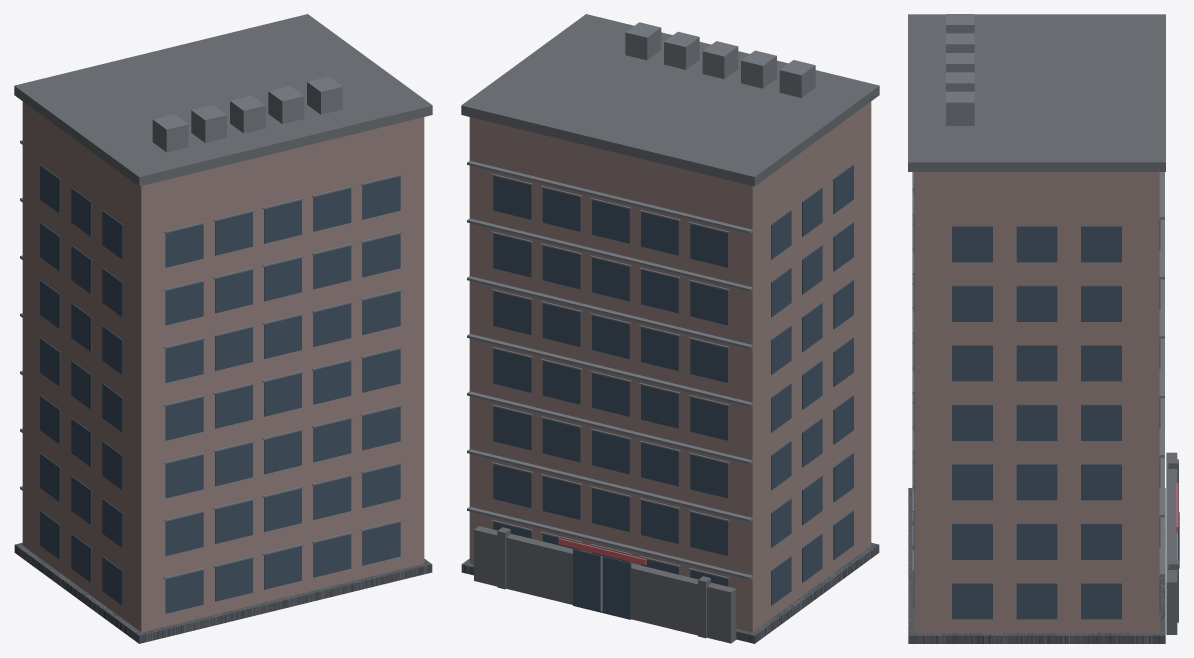
The model's file is shadow_bank.glb.
3 renders of one model, left to right at view 1: azimuth 30°, elevation 25°; view 2: azimuth 150°, elevation 25°; view 3: azimuth 270°, elevation 25°, orthographic. The views are drawn at different scales.
Parts seen in each view (by area): view 1: facade_2, roof_truss_192, foundation_1, inset_window_21, inset_window_102, inset_window_13, inset_window_19, inset_window_46, inset_window_48, inset_window_94, inset_window_127, inset_window_129 (+52 smaller); view 2: facade_2, roof_truss_192, ground_portico_194, glass_entry_195, foundation_1, horizontal_structural_band_191, horizontal_structural_band_110, horizontal_structural_band_29, horizontal_structural_band_56, horizontal_structural_band_83, horizontal_structural_band_137, horizontal_structural_band_164 (+58 smaller); view 3: facade_2, roof_truss_192, foundation_1, ground_portico_194, window_side_wall_26, window_side_wall_53, window_side_wall_80, window_side_wall_107, window_side_wall_134, window_side_wall_161, window_side_wall_188, window_side_wall_24 (+18 smaller).
Boxes of the visible parts, x1,y1,x2,y2 form: facade_2: [22, 101, 424, 632]; roof_truss_192: [14, 14, 432, 186]; foundation_1: [14, 542, 432, 643]; inset_window_21: [362, 522, 400, 565]; inset_window_102: [362, 349, 400, 392]; inset_window_13: [165, 570, 203, 613]; inset_window_19: [313, 534, 351, 577]; inset_window_46: [313, 476, 351, 519]; inset_window_48: [362, 464, 400, 507]; inset_window_94: [165, 397, 203, 440]; inset_window_127: [313, 303, 351, 346]; inset_window_129: [362, 291, 400, 334]; facade_2: [469, 101, 871, 632]; roof_truss_192: [461, 14, 879, 186]; ground_portico_194: [474, 526, 736, 643]; glass_entry_195: [573, 549, 631, 619]; foundation_1: [461, 542, 879, 643]; horizontal_structural_band_191: [467, 160, 752, 233]; horizontal_structural_band_110: [467, 333, 752, 406]; horizontal_structural_band_29: [467, 506, 752, 579]; horizontal_structural_band_56: [467, 449, 752, 521]; horizontal_structural_band_83: [467, 391, 752, 464]; horizontal_structural_band_137: [467, 276, 752, 348]; horizontal_structural_band_164: [467, 218, 752, 291]; facade_2: [914, 172, 1159, 632]; roof_truss_192: [908, 14, 1165, 171]; foundation_1: [908, 488, 1165, 643]; ground_portico_194: [1166, 452, 1177, 634]; window_side_wall_26: [1016, 583, 1057, 619]; window_side_wall_53: [1016, 523, 1057, 559]; window_side_wall_80: [1016, 464, 1057, 500]; window_side_wall_107: [1016, 404, 1057, 440]; window_side_wall_134: [1016, 345, 1057, 381]; window_side_wall_161: [1016, 285, 1057, 321]; window_side_wall_188: [1016, 226, 1057, 262]; window_side_wall_24: [1081, 583, 1121, 619].
Bounding box in the file's own units: 11.42 × 18.2 × 8.88.
Materials: 7 (1 with a texture image).
